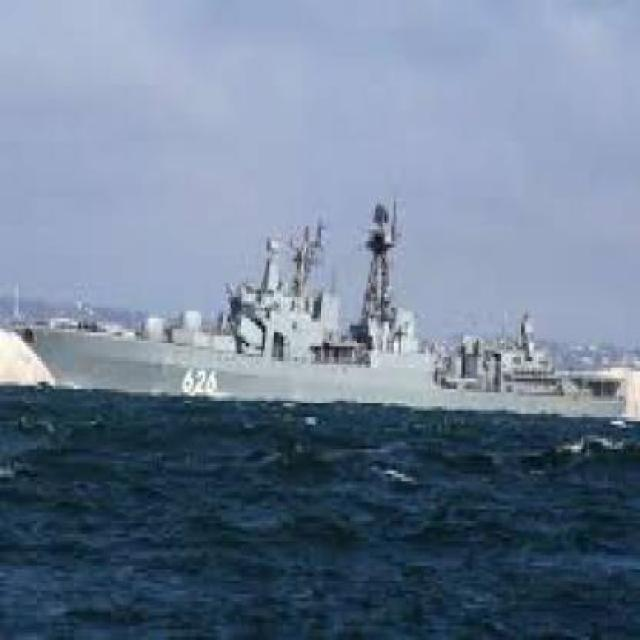warship2: (17, 185, 639, 440)
